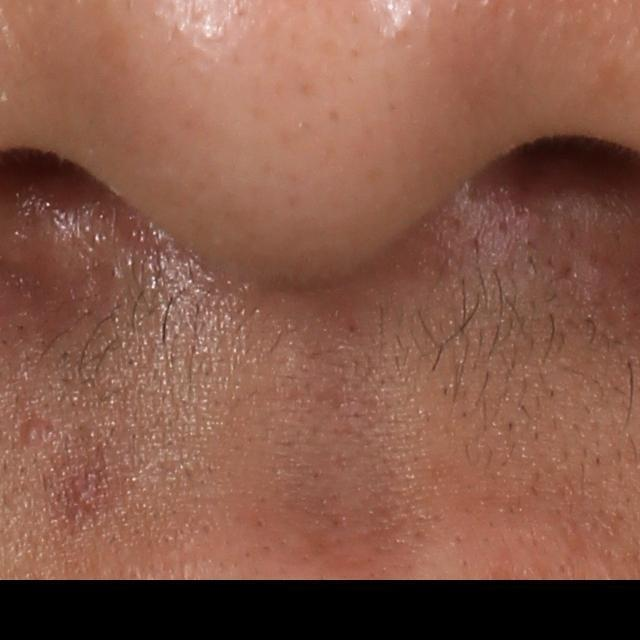papule: (23, 415, 44, 449)
